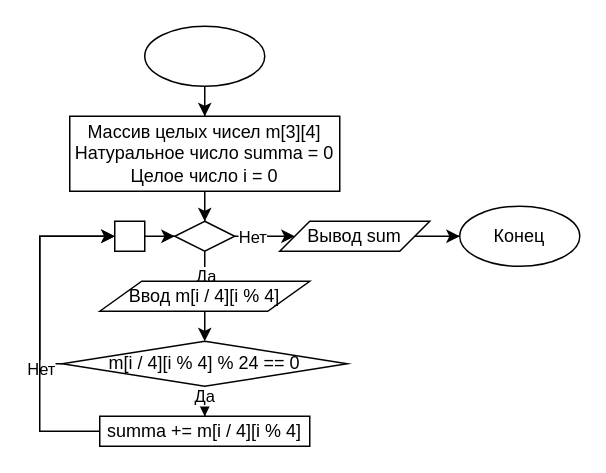
Some shapes in this 606 by 473 pixel diagram are drawn without their labels. Here are the shapes that lost their labels. From the top down, the centre of each, then its label:
point (204, 55): Начало
point (129, 235): i++
point (204, 235): i < 12
